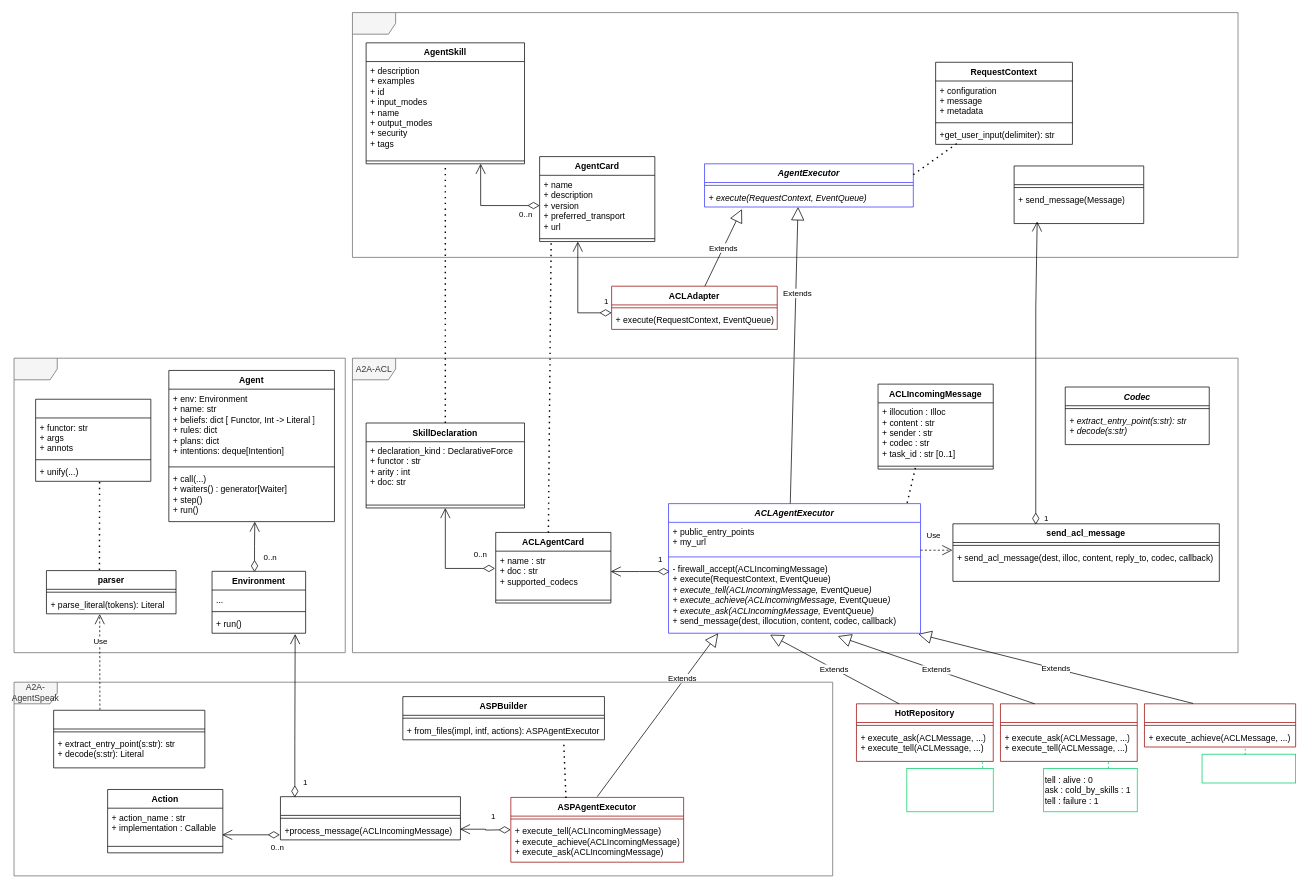
The diagram is 1308 pixels wide and 888 high, and some of its shapes have lost their labels. The box of each missing label's shape, as (x1, y1, x2, y2) in pixels:
A2A: (352, 12, 1238, 257)
achieve : ping : 0: (1201, 753, 1296, 783)
Client: (1013, 165, 1144, 224)
ColdRepository: (1000, 703, 1137, 761)
EmbeddedASPAgent: (280, 796, 460, 840)
Literal: (35, 399, 151, 481)
Pingable: (1144, 703, 1296, 747)
python-agentspeak: (13, 357, 345, 653)
PythonAgentspeakCodec: (53, 710, 205, 768)
tell : alive : 0 ask : by_skills : 1 tell : failure : 1: (906, 768, 993, 812)
